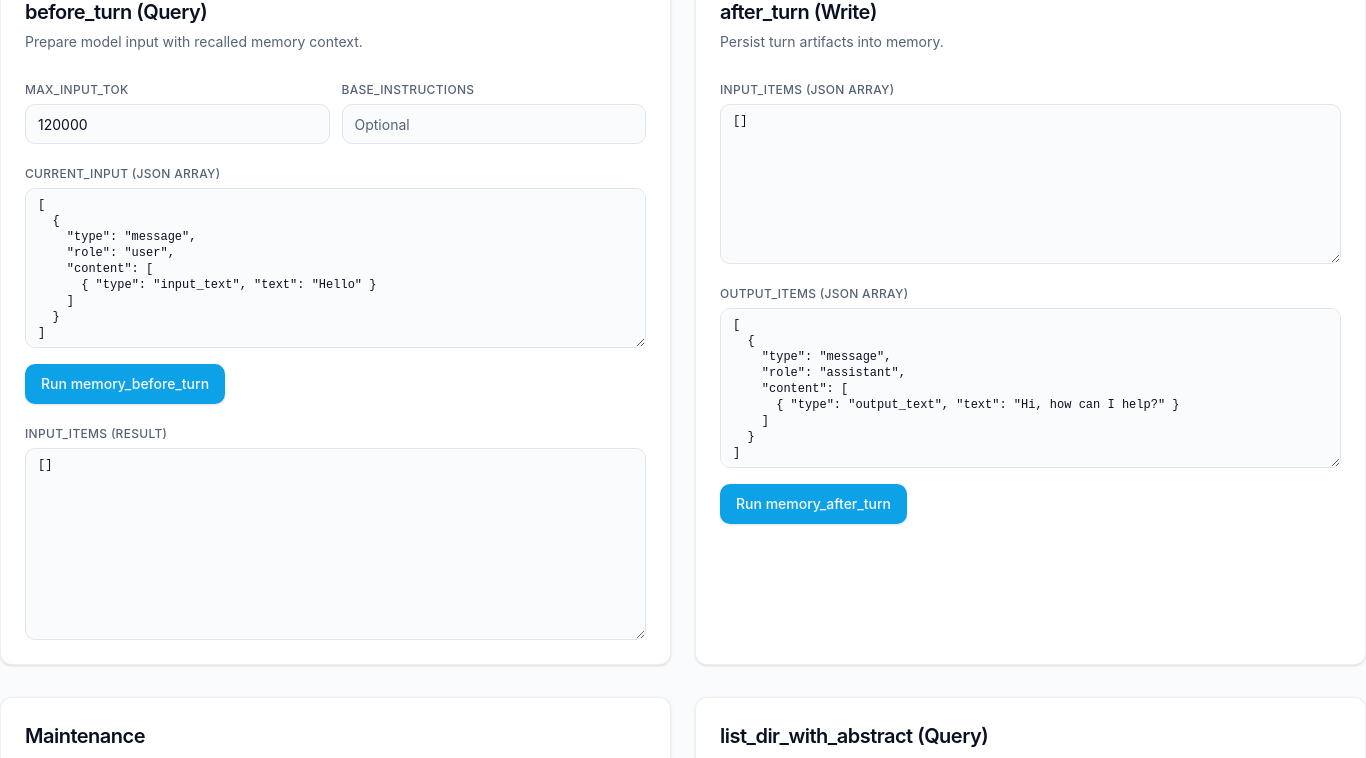
it: MemoryPage private result boundaries › reports malformed private tool JSON once and preserves its native message in the UI
(page scrolled)
Click the button "Run memory_before_turn": x=125, y=384 [25,364,225,404]
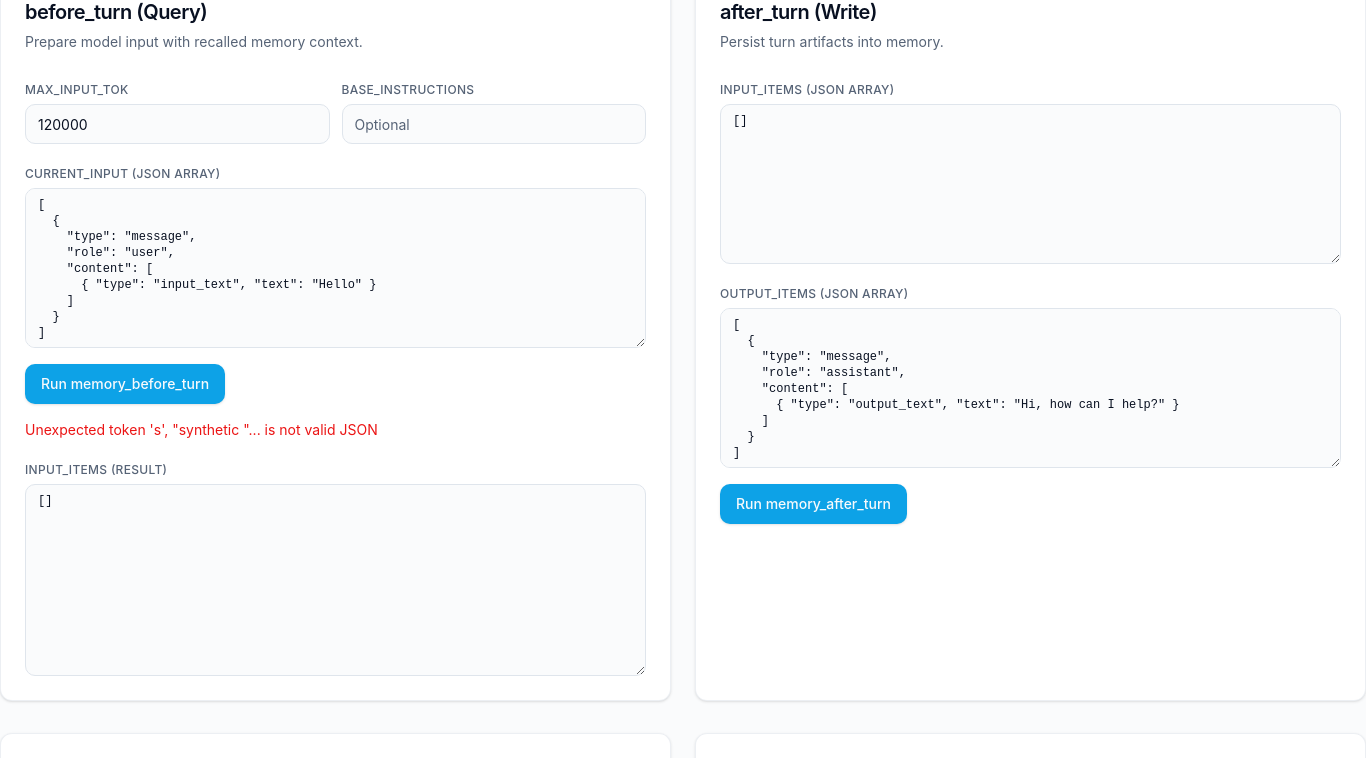
Check: the text "Unexpected token 's', \"synthetic \"... is not valid JSON" is shown, box [25,421,378,438]
